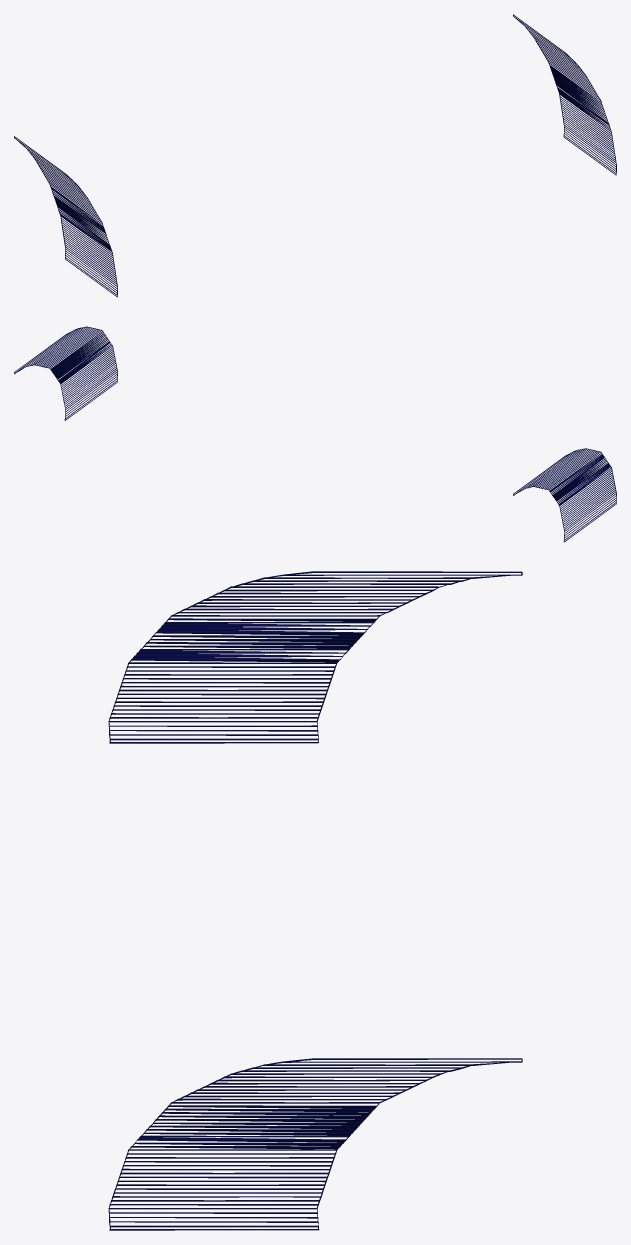
Rendered from Al_Nasar_Football_Stadium_FrontGrill.FBX.
The picture shows the model from 3 angles, top to bottom: view 1: azimuth 30°, elevation 25°; view 2: azimuth 150°, elevation 25°; view 3: azimuth 270°, elevation 25°; orthographic projection. The views are drawn at different scales.
Parts seen in each view (by area): view 1: Al_Nasar_Football_Stadium_FrontGrill; view 2: Al_Nasar_Football_Stadium_FrontGrill; view 3: Al_Nasar_Football_Stadium_FrontGrill.
Boxes of the visible parts, box(x1,y1,x2,y2) form: Al_Nasar_Football_Stadium_FrontGrill: box(14, 14, 616, 297); Al_Nasar_Football_Stadium_FrontGrill: box(14, 326, 616, 542); Al_Nasar_Football_Stadium_FrontGrill: box(108, 571, 522, 1230).
Size of the model in its own units: 14156 by 5078 by 2329.
